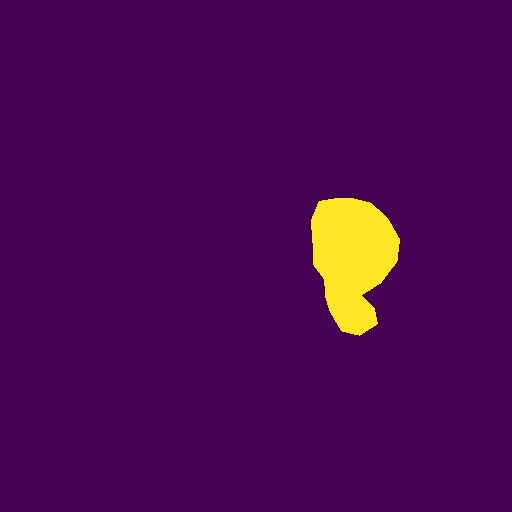Gliomia_tumour: (311, 198, 400, 336)
